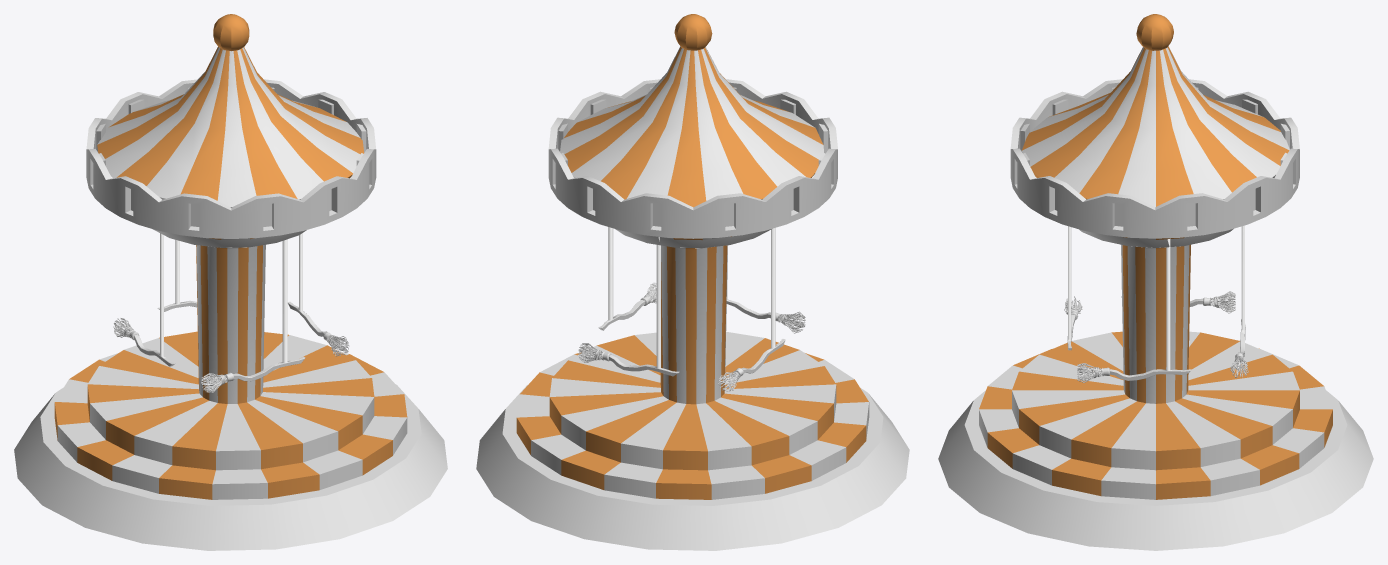
Rendered from Carousel.fbx.
The picture shows the model from 3 angles, left to right: view 1: azimuth 30°, elevation 25°; view 2: azimuth 150°, elevation 25°; view 3: azimuth 270°, elevation 25°; orthographic projection.
Parts seen in each view (by area): view 1: Carousel; view 2: Carousel; view 3: Carousel.
Boxes of the visible parts, x1=… form: Carousel: x1=14, y1=14, x2=447, y2=550; Carousel: x1=476, y1=14, x2=909, y2=550; Carousel: x1=938, y1=14, x2=1373, y2=550.
Bounding box in the file's own units: 917 × 1029 × 917.
